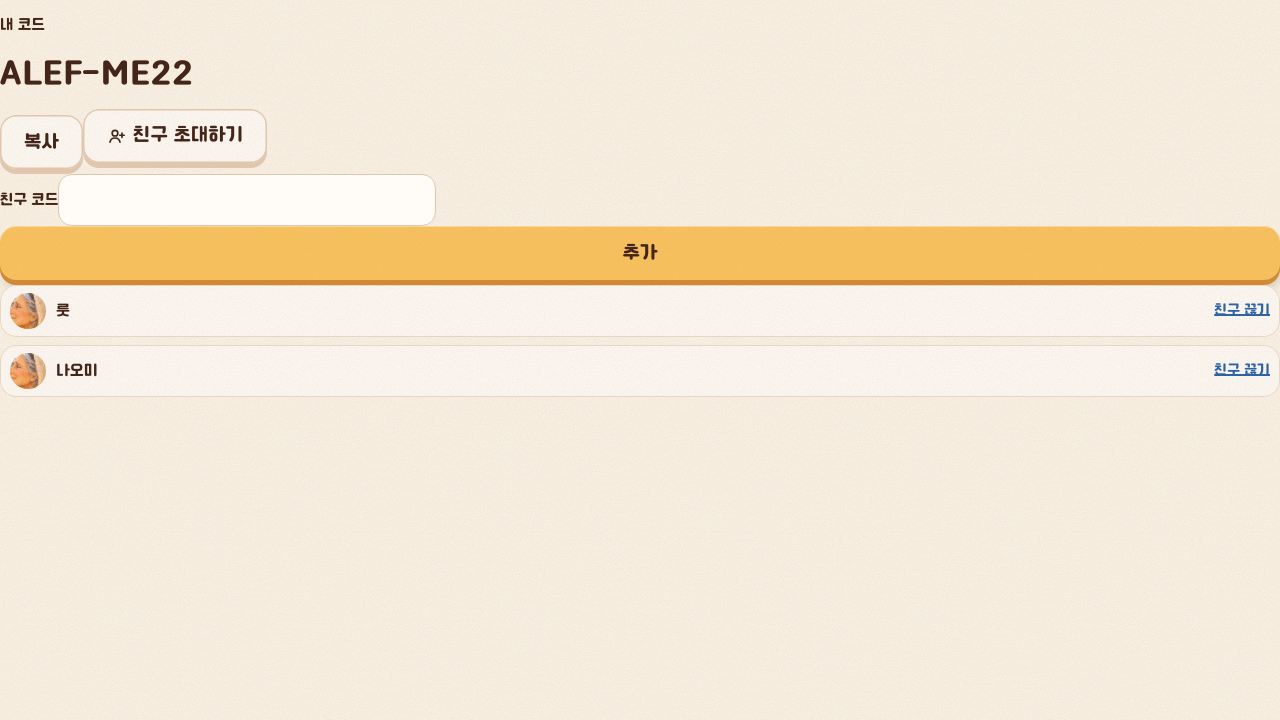
Scenario: FriendsManager › normalises input and adds friend, then clears and confirms
expect the text "룻" is shown: met, box [56,300,70,322]
Type " k7q2 " into the field labelled "친구 코드".
click(247, 200); type(" k7q2 ")  # box [58,174,436,226]
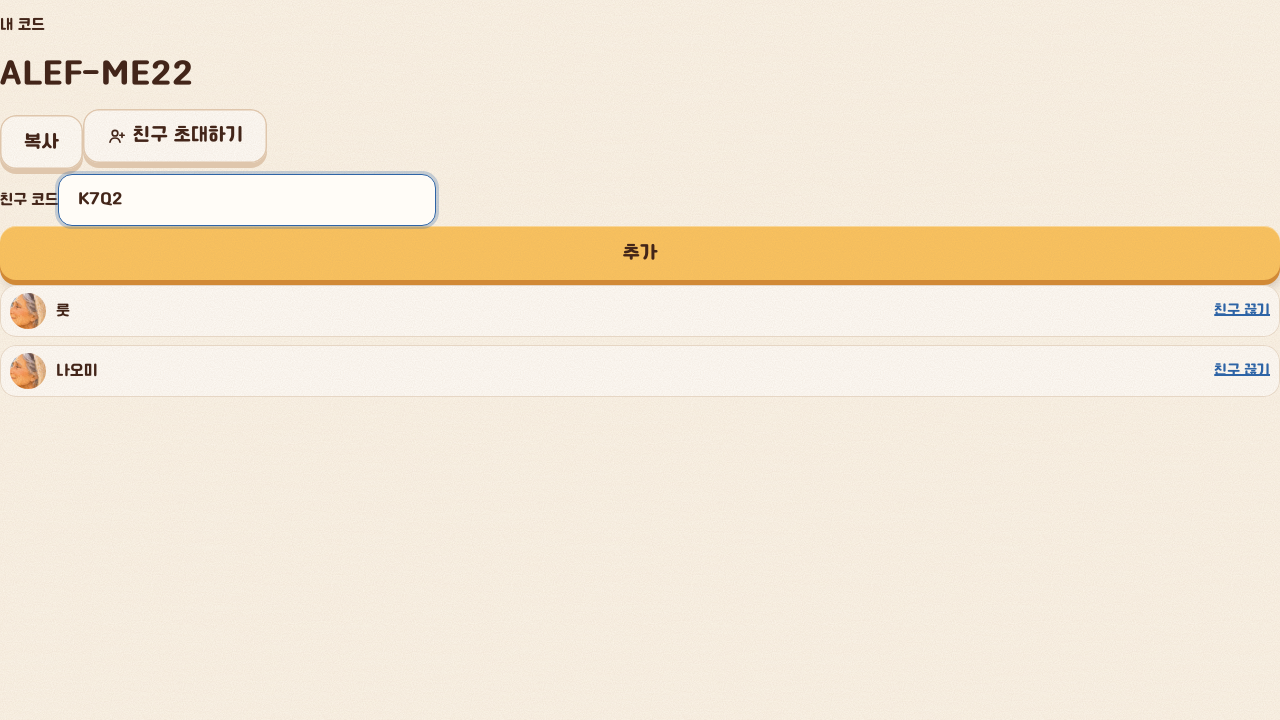
Click the button "추가".
click(640, 253)  # box [0,226,1279,280]
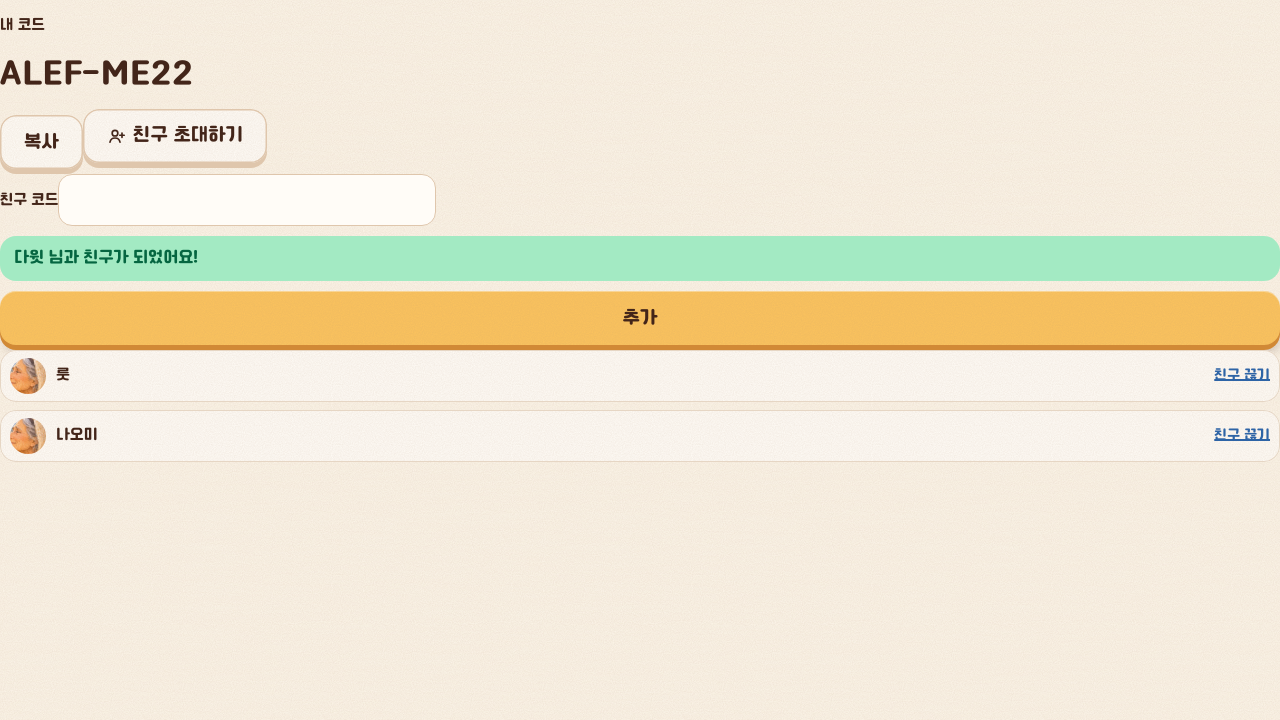
expect the text "다윗 님과 친구가 되었어요!" is shown: met, box [0,236,1279,281]
expect the field labelled "친구 코드" is empty: met, box [58,174,436,226]
